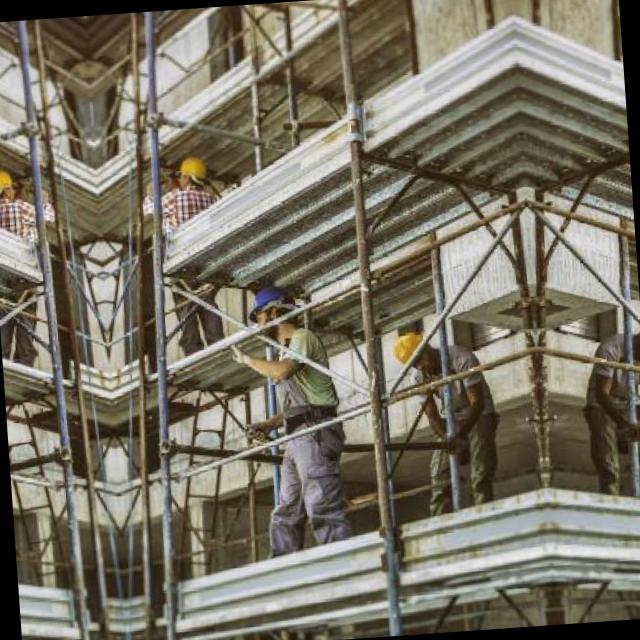helmet: (238, 278, 300, 340), (390, 327, 437, 374), (171, 148, 206, 192), (0, 160, 20, 205)
